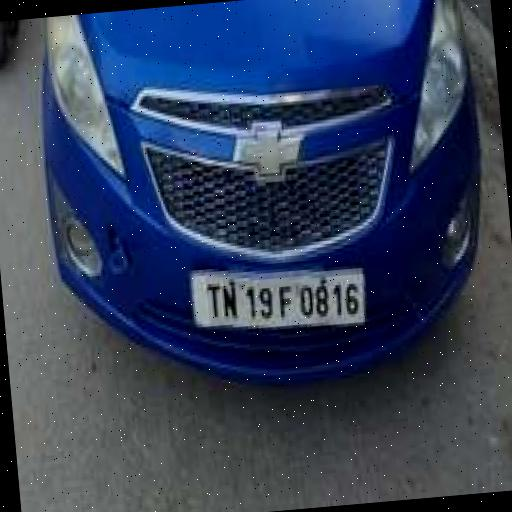license_plate`: (186, 253, 365, 334)
